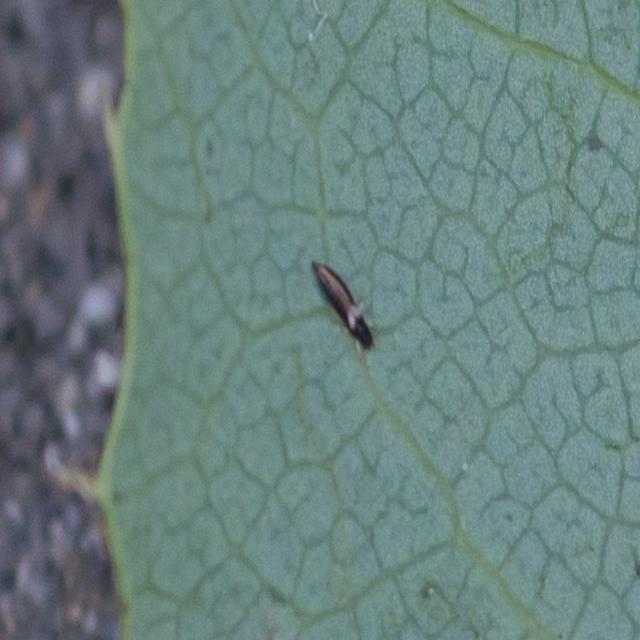Thrip-Adult-: (311, 248, 374, 354)
